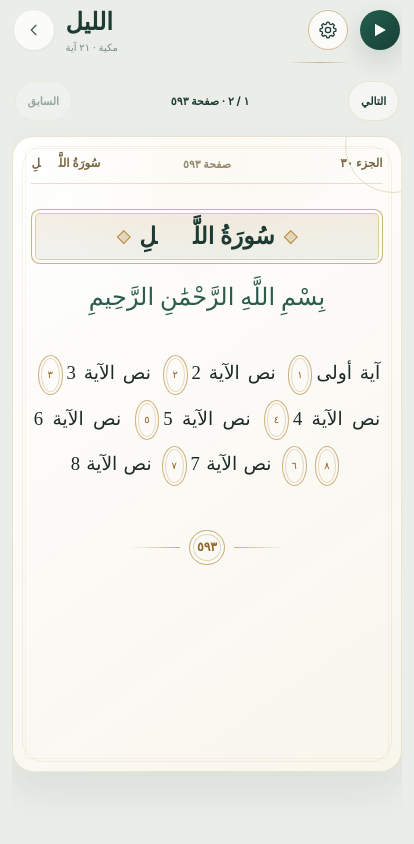
Test: QuranReaderView › paginates by real Mushaf pages and shows the real page number
The image size is (414, 844).
Check: the text "١ / ٢ · صفحة ٥٩٣" is shown, box 171,93 -> 249,109
Check: the text "نص الآية 8 ٨" is shown, box 71,453 -> 343,474
Click the button "التالي" at point(374, 101), box 348,81 -> 399,121
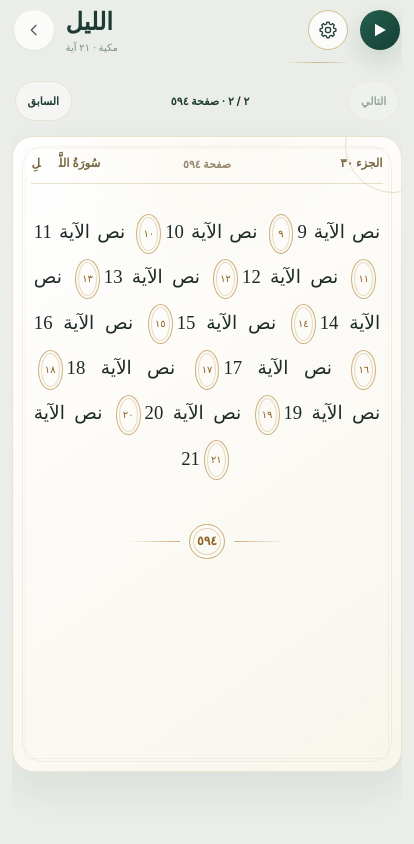
Check: the text "٢ / ٢ · صفحة ٥٩٤" is shown, box 171,93 -> 249,109
Check: the text "نص الآية 21 ٢١" is shown, box 34,402 -> 233,469
Check: the button "التالي" is disabled, box 348,81 -> 399,121
